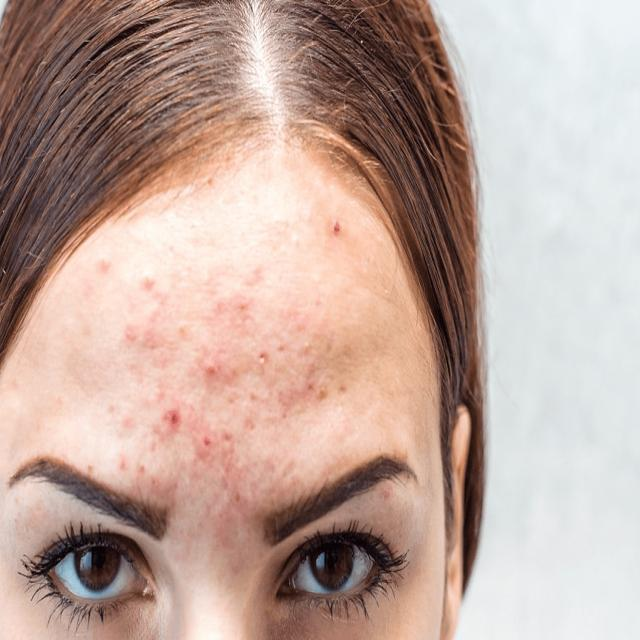Acne: (94, 248, 352, 501)
